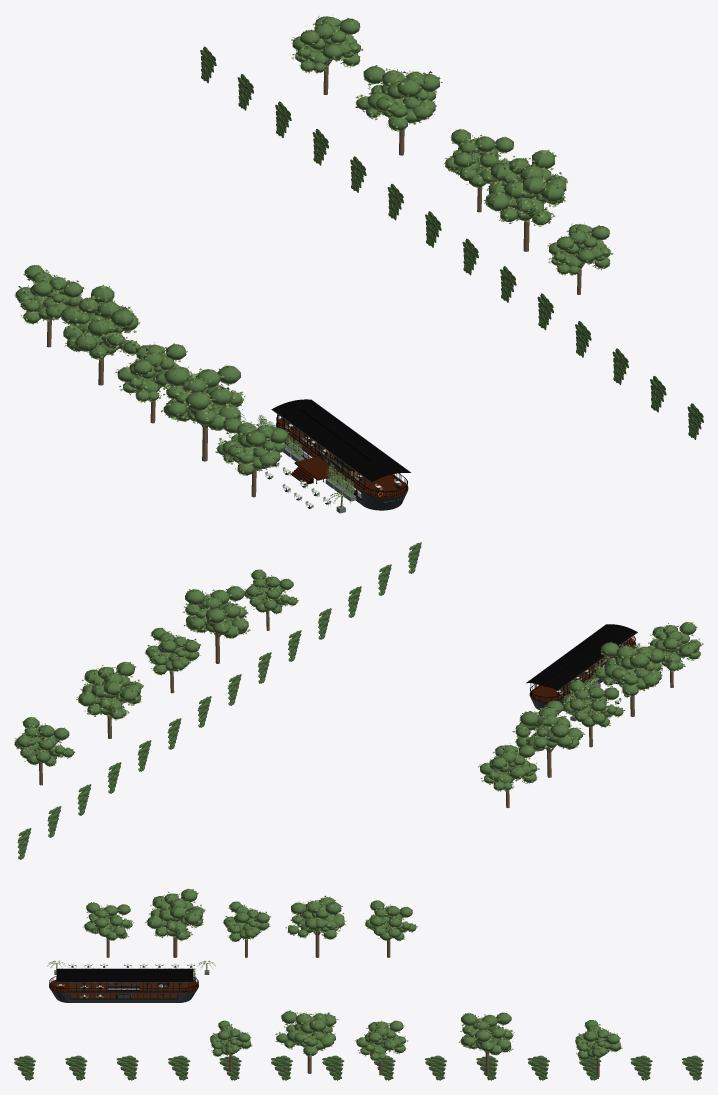
The model's file is son-de-la-terre.glb.
3 views of the same model, one above another, from view 1: azimuth 30°, elevation 25°; view 2: azimuth 150°, elevation 25°; view 3: azimuth 270°, elevation 25° (orthographic). The views are drawn at different scales.
Visible parts, largest first — view 1: TREE_PlaneCrown_06, TREE_PlaneCrown_01, TREE_PlaneCrown_03, HERO_CurvedBrassRoof, TREE_PlaneCrown_08, TREE_PlaneCrown_09, TREE_PlaneCrown_00, TREE_PlaneCrown_04, TREE_PlaneCrown_07, TREE_PlaneCrown_02, TREE_PlaneCrown_05, TREE_LeafDetail_06 (+3 smaller); view 2: TREE_PlaneCrown_06, TREE_PlaneCrown_01, TREE_PlaneCrown_08, HERO_CurvedBrassRoof, TREE_PlaneCrown_03, TREE_PlaneCrown_04, TREE_PlaneCrown_09, TREE_PlaneCrown_02, TREE_PlaneCrown_07, TREE_PlaneCrown_00, TREE_PlaneCrown_05, TREE_LeafDetail_08 (+6 smaller); view 3: TREE_PlaneCrown_01, TREE_PlaneCrown_06, TREE_PlaneCrown_08, TREE_PlaneCrown_03, HERO_CurvedBrassRoof, TREE_PlaneCrown_07, TREE_PlaneCrown_04, TREE_PlaneCrown_00, TREE_PlaneCrown_02, TREE_PlaneCrown_09, TREE_PlaneCrown_05, HERO_CharcoalHull (+11 smaller).
Boxes of the visible parts, box(x1,y1,x2,y2) form: TREE_PlaneCrown_06: box(486, 150, 566, 225); TREE_PlaneCrown_01: box(163, 365, 242, 430); TREE_PlaneCrown_03: box(61, 286, 140, 359); HERO_CurvedBrassRoof: box(272, 399, 410, 482); TREE_PlaneCrown_08: box(356, 66, 439, 130); TREE_PlaneCrown_09: box(292, 16, 360, 72); TREE_PlaneCrown_00: box(217, 418, 287, 475); TREE_PlaneCrown_04: box(15, 265, 82, 323); TREE_PlaneCrown_07: box(445, 129, 513, 187); TREE_PlaneCrown_02: box(117, 344, 189, 401); TREE_PlaneCrown_05: box(549, 224, 610, 274); TREE_LeafDetail_06: box(484, 149, 567, 226); TREE_PlaneCrown_06: box(185, 586, 248, 638); TREE_PlaneCrown_01: box(595, 642, 664, 696); TREE_PlaneCrown_08: box(78, 662, 142, 719); HERO_CurvedBrassRoof: box(526, 624, 636, 690); TREE_PlaneCrown_03: box(515, 700, 582, 751); TREE_PlaneCrown_04: box(480, 745, 537, 790); TREE_PlaneCrown_09: box(14, 717, 73, 766); TREE_PlaneCrown_02: box(563, 680, 623, 726); TREE_PlaneCrown_07: box(145, 628, 199, 674); TREE_PlaneCrown_00: box(648, 622, 700, 671); TREE_PlaneCrown_05: box(244, 569, 297, 613); TREE_LeafDetail_08: box(76, 661, 143, 720); TREE_PlaneCrown_01: box(147, 889, 203, 940); TREE_PlaneCrown_06: box(276, 1011, 336, 1056); TREE_PlaneCrown_08: box(460, 1012, 512, 1054); TREE_PlaneCrown_03: box(288, 897, 344, 939); HERO_CurvedBrassRoof: box(56, 969, 192, 981); TREE_PlaneCrown_07: box(356, 1020, 405, 1060); TREE_PlaneCrown_04: box(365, 900, 416, 940); TREE_PlaneCrown_00: box(84, 902, 132, 940); TREE_PlaneCrown_02: box(223, 901, 269, 941); TREE_PlaneCrown_09: box(575, 1020, 621, 1059); TREE_PlaneCrown_05: box(210, 1020, 251, 1056); HERO_CharcoalHull: box(50, 989, 197, 1002).
Size of the model in its own units: 100 by 26.15 by 175.
